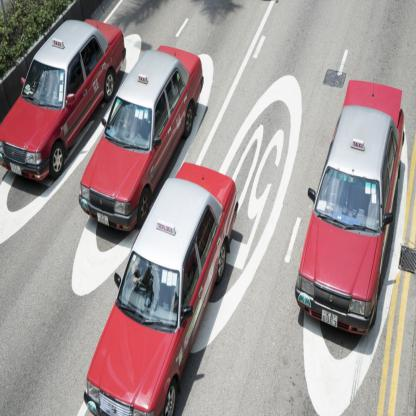taxi: (82, 156, 244, 416), (292, 68, 411, 384)
